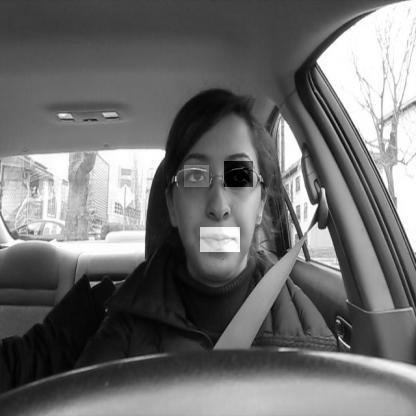seatbelt: (149, 86, 316, 352)
